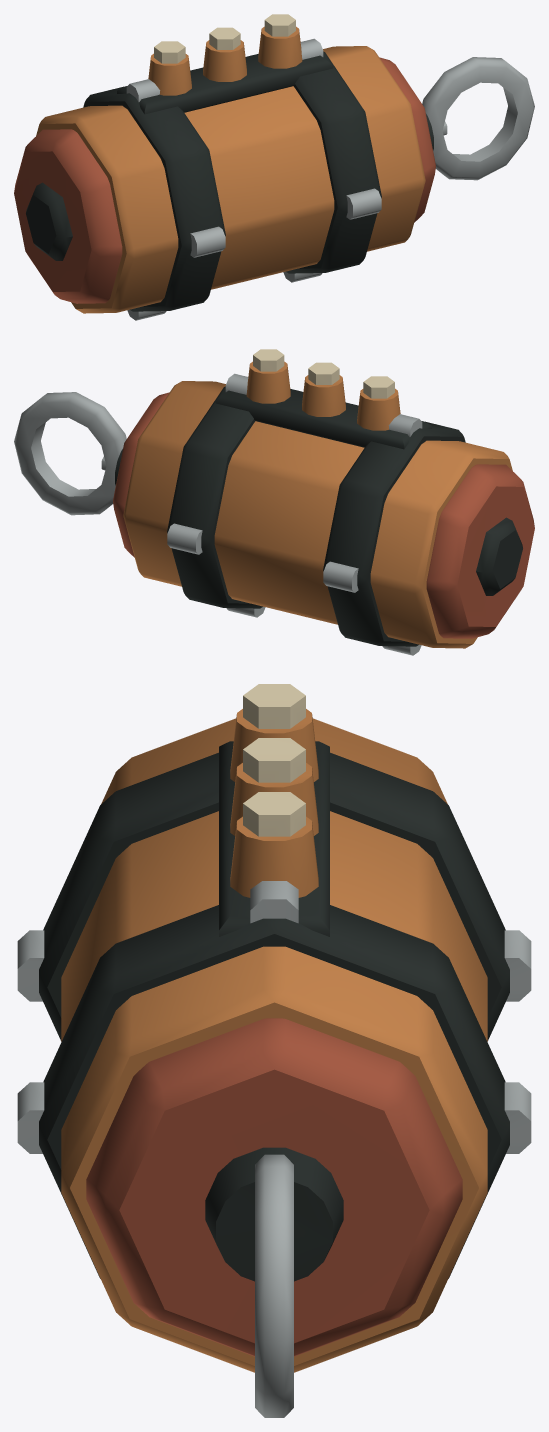
File: cons_cap_charge.glb
3 renders of one model, top to bottom at view 1: azimuth 30°, elevation 25°; view 2: azimuth 150°, elevation 25°; view 3: azimuth 270°, elevation 25°, orthographic. The views are drawn at different scales.
Parts seen in each view (by area): view 1: cons_cap_charge_mesh; view 2: cons_cap_charge_mesh; view 3: cons_cap_charge_mesh.
Boxes of the visible parts, x1,y1,x2,y2 form: cons_cap_charge_mesh: (14, 14, 534, 320); cons_cap_charge_mesh: (14, 349, 534, 655); cons_cap_charge_mesh: (17, 684, 531, 1417).
Bounding box in the file's own units: 0.756 × 0.386 × 0.342.
